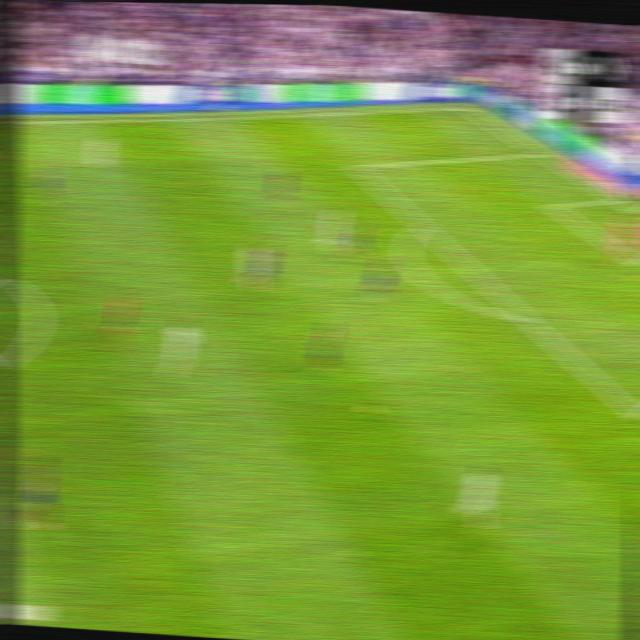bigarea_top_inner: (350, 158, 367, 175)
bigarea_top_outter: (531, 144, 550, 160)
bottom_arc_area_intersection: (515, 307, 537, 329)
corner: (456, 101, 475, 112)
smallarea_top_inner: (545, 200, 563, 212)
top_arc_area_intersection: (414, 215, 433, 235)
